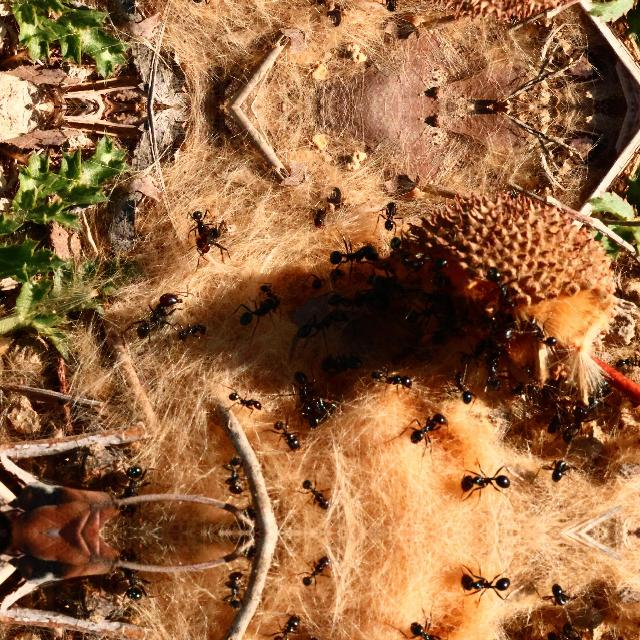Messor: (128, 282, 188, 346), (456, 564, 516, 604), (456, 462, 516, 501), (116, 548, 144, 620), (116, 446, 144, 516), (482, 266, 518, 310), (409, 408, 447, 448), (238, 292, 278, 328), (297, 476, 339, 510), (297, 555, 339, 589), (196, 218, 227, 264), (385, 235, 421, 273), (560, 404, 592, 446), (320, 348, 364, 378), (362, 366, 412, 392), (522, 313, 558, 349), (540, 576, 572, 616), (540, 449, 572, 488), (270, 415, 304, 451), (480, 342, 504, 393), (172, 314, 212, 342), (219, 453, 247, 493), (219, 572, 247, 612), (330, 242, 378, 264), (306, 266, 350, 290), (446, 368, 476, 402), (290, 370, 312, 412), (270, 614, 304, 640), (409, 617, 447, 640), (227, 389, 263, 411), (560, 618, 591, 640), (380, 198, 400, 230), (308, 200, 328, 230), (610, 352, 640, 372), (260, 280, 282, 306), (187, 207, 211, 230), (379, 0, 400, 14), (308, 0, 328, 11), (187, 0, 211, 5)
